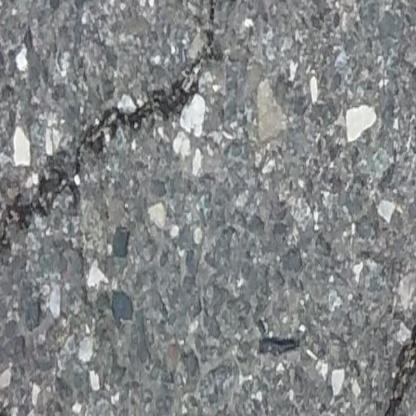Cracks: (0, 0, 249, 309), (369, 290, 416, 416)
